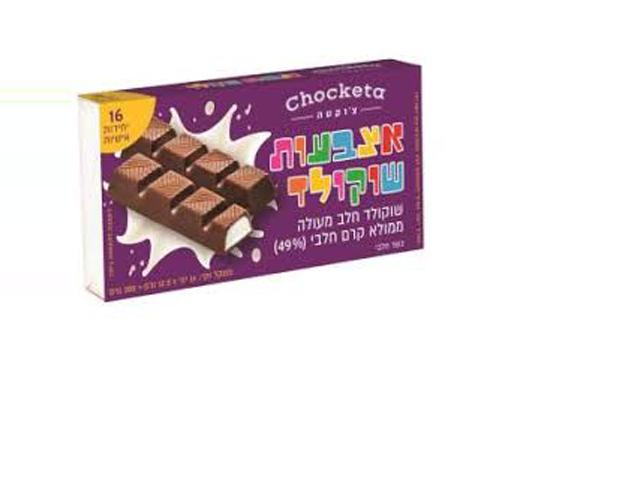chocolate: (72, 58, 447, 284)
